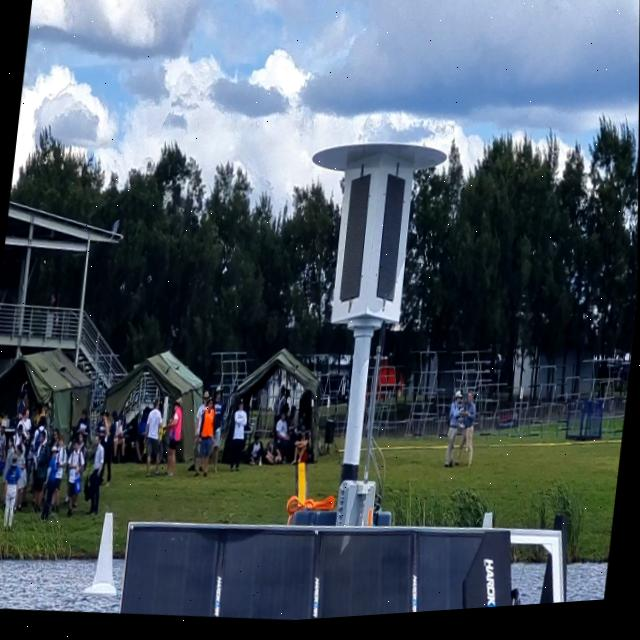led: (334, 166, 411, 321), (368, 167, 412, 315), (334, 169, 379, 313)
